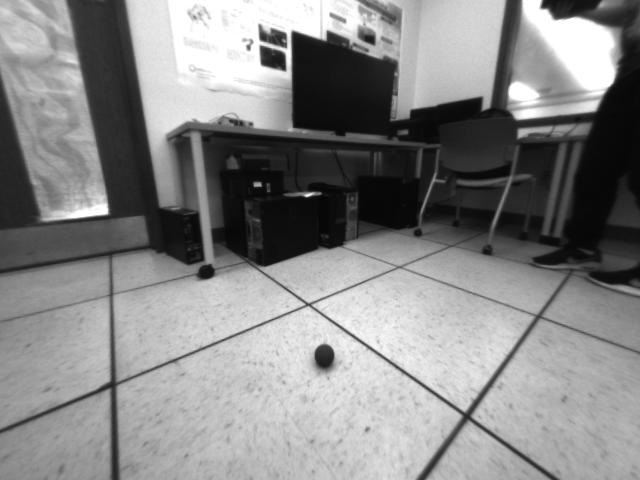dogtoy: (308, 341, 338, 372)
